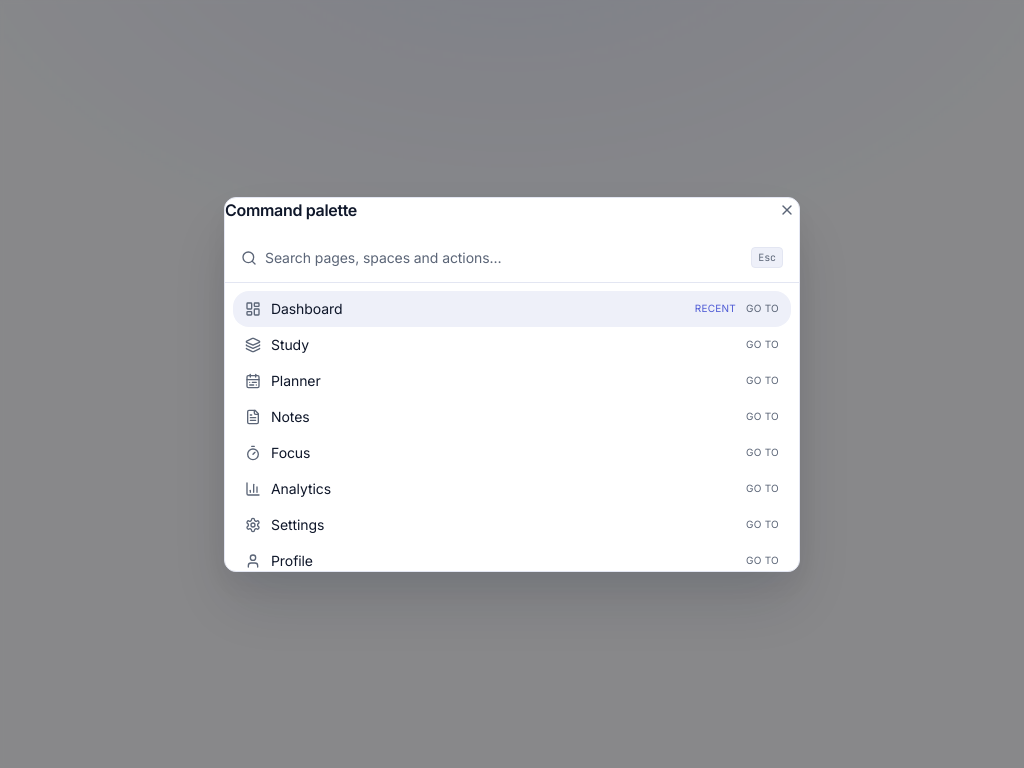
CommandPalette › says so plainly when nothing matches
Type "zzzzzzzzzz" into the dropdown at (504, 258), box [265, 234, 743, 282]
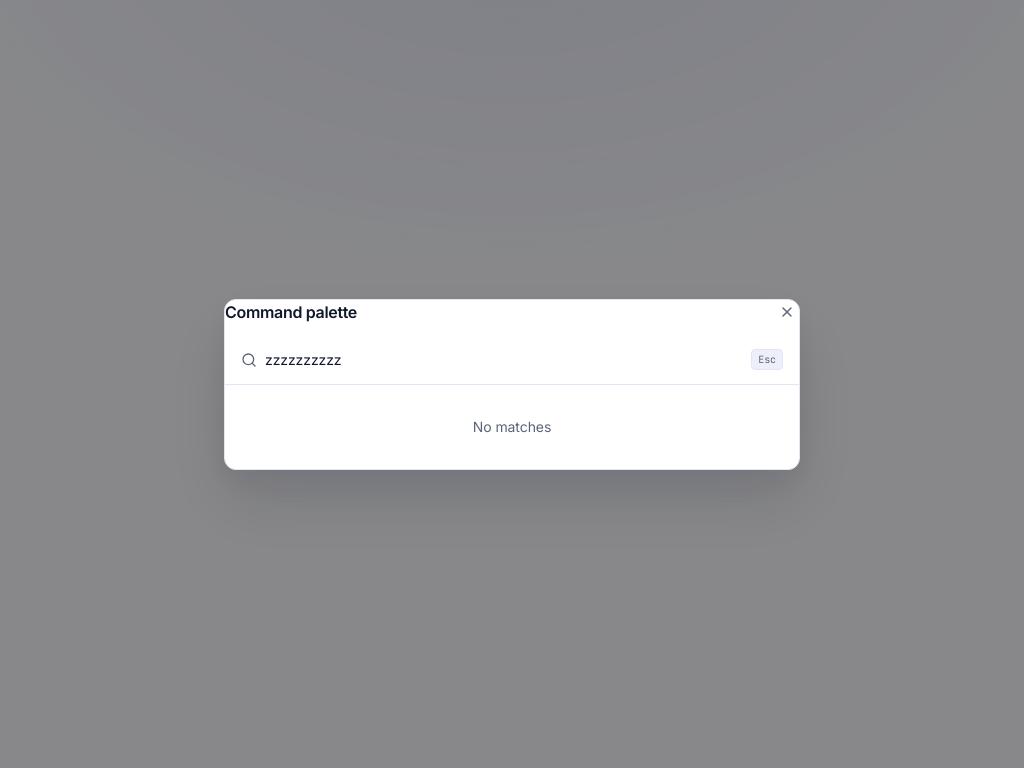
expect no options are shown: met
expect the list item reads "No matches": met, box [473, 418, 551, 434]
